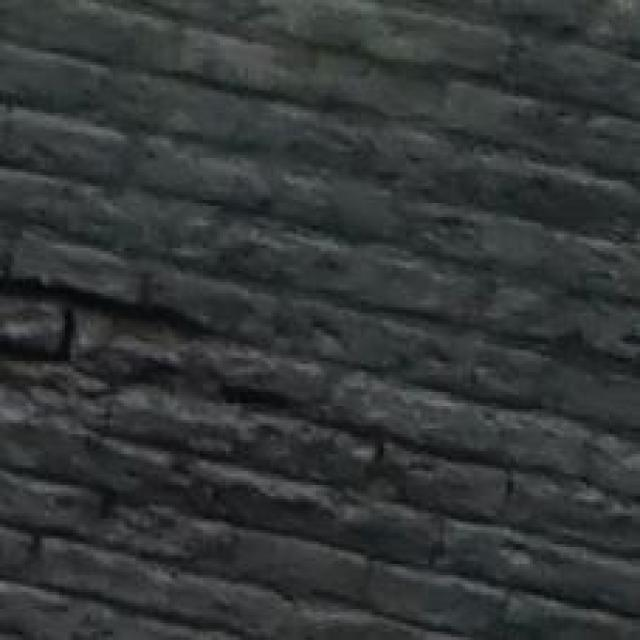Crack: (1, 230, 376, 542)
